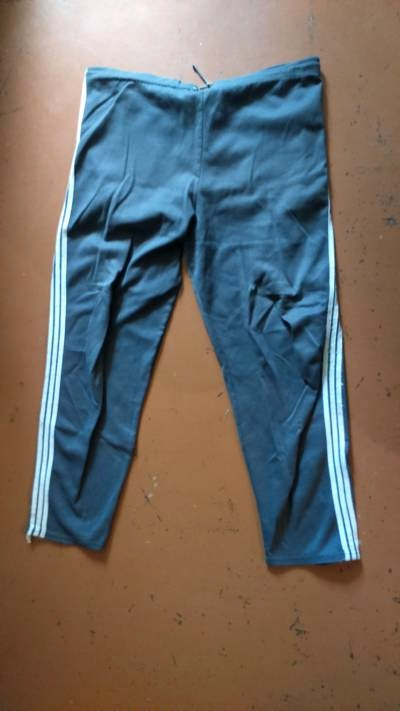Pants: (15, 41, 375, 575)
